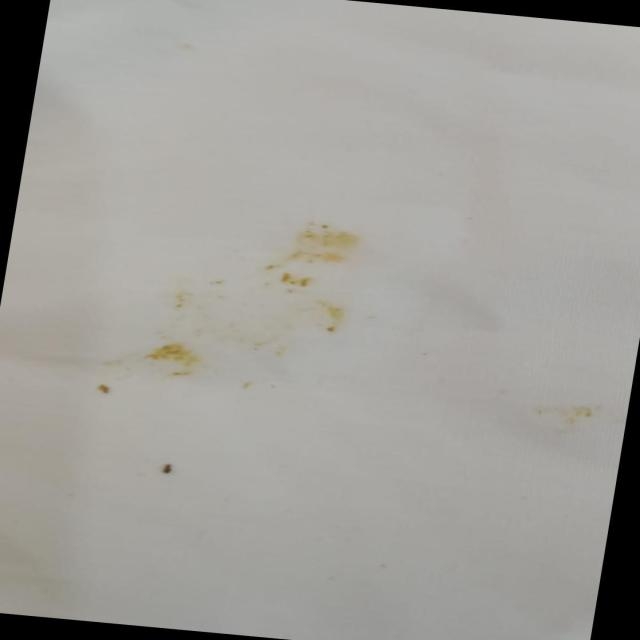stain: (76, 188, 392, 428), (523, 390, 618, 431), (148, 455, 188, 485)
